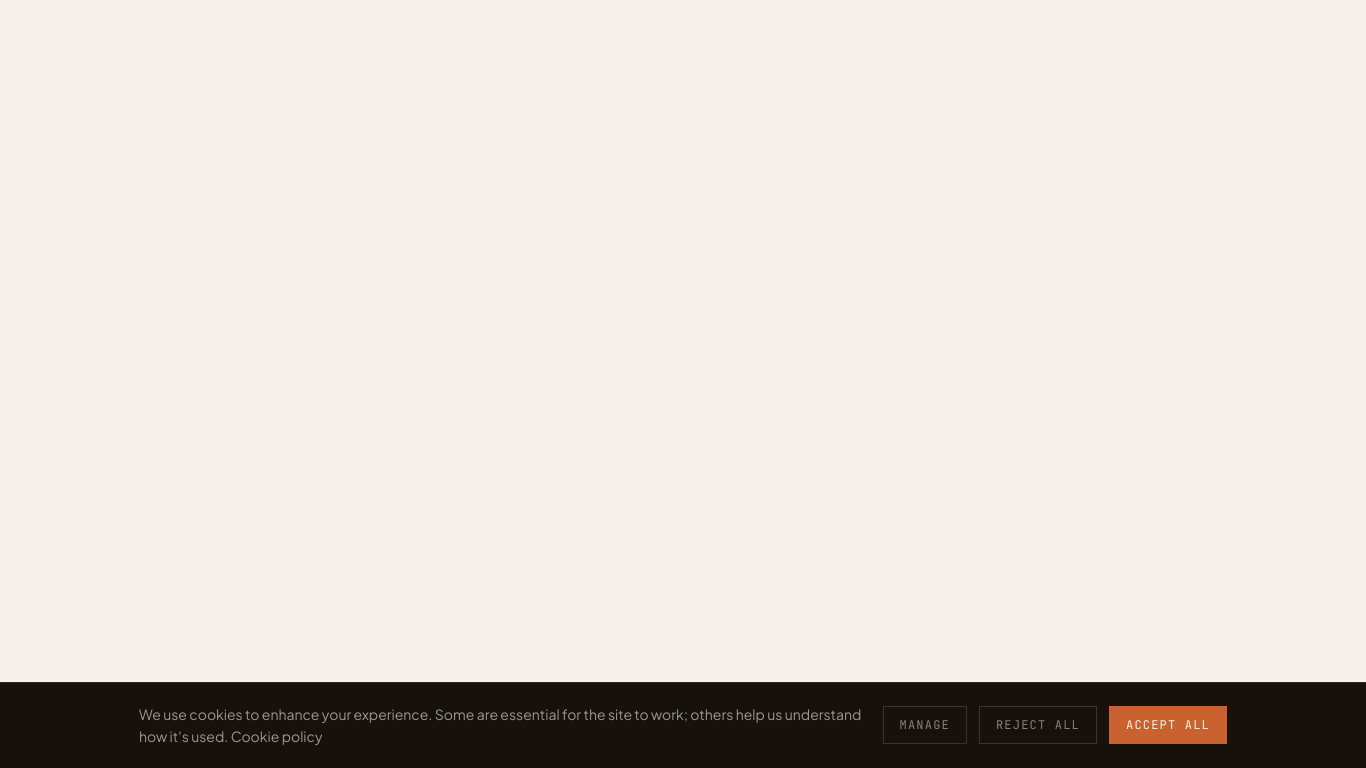
Test: CookieConsent › closes the preferences panel with the ✕ button
Click the button "Manage": (925, 725) [883,706,967,744]
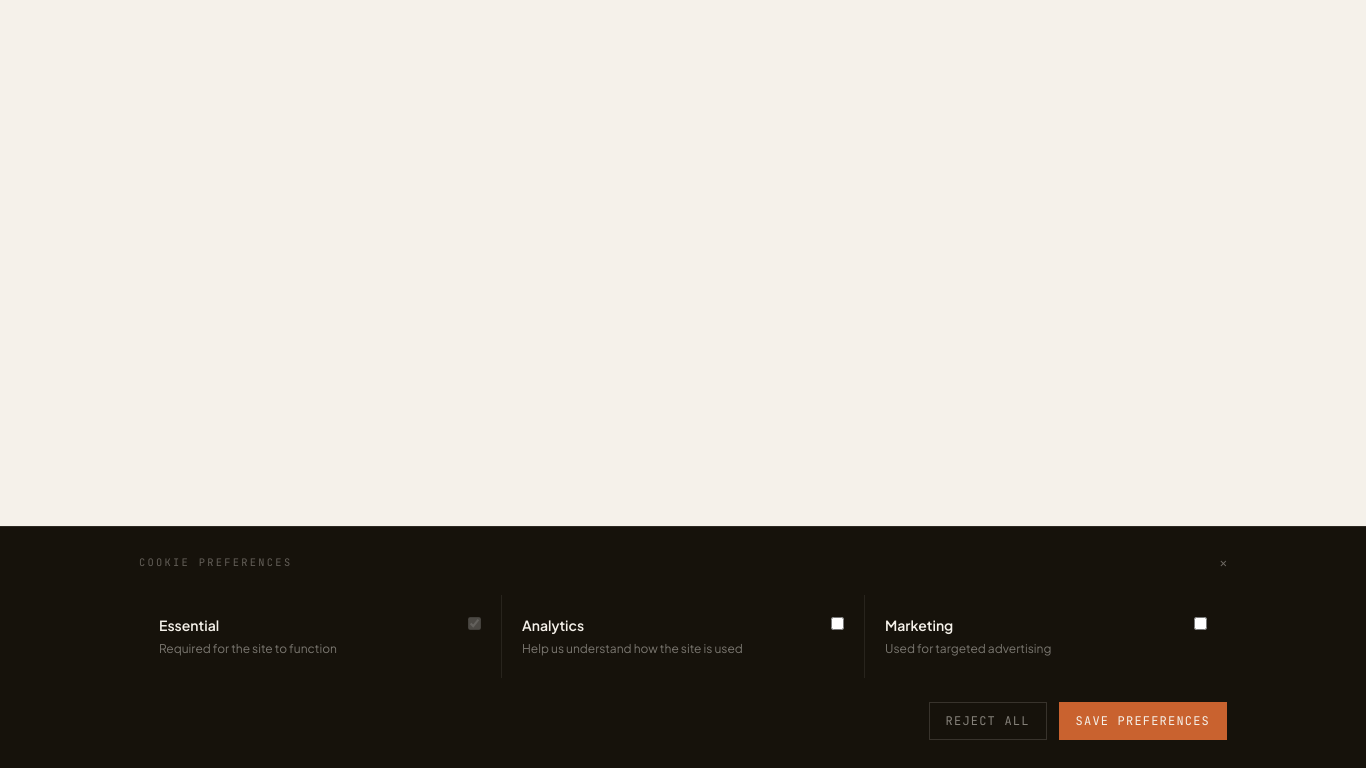
Now the text "Cookie Preferences" is shown, box [139,555,292,570]
Click the button "✕": (1223, 562) [1220,554,1227,570]
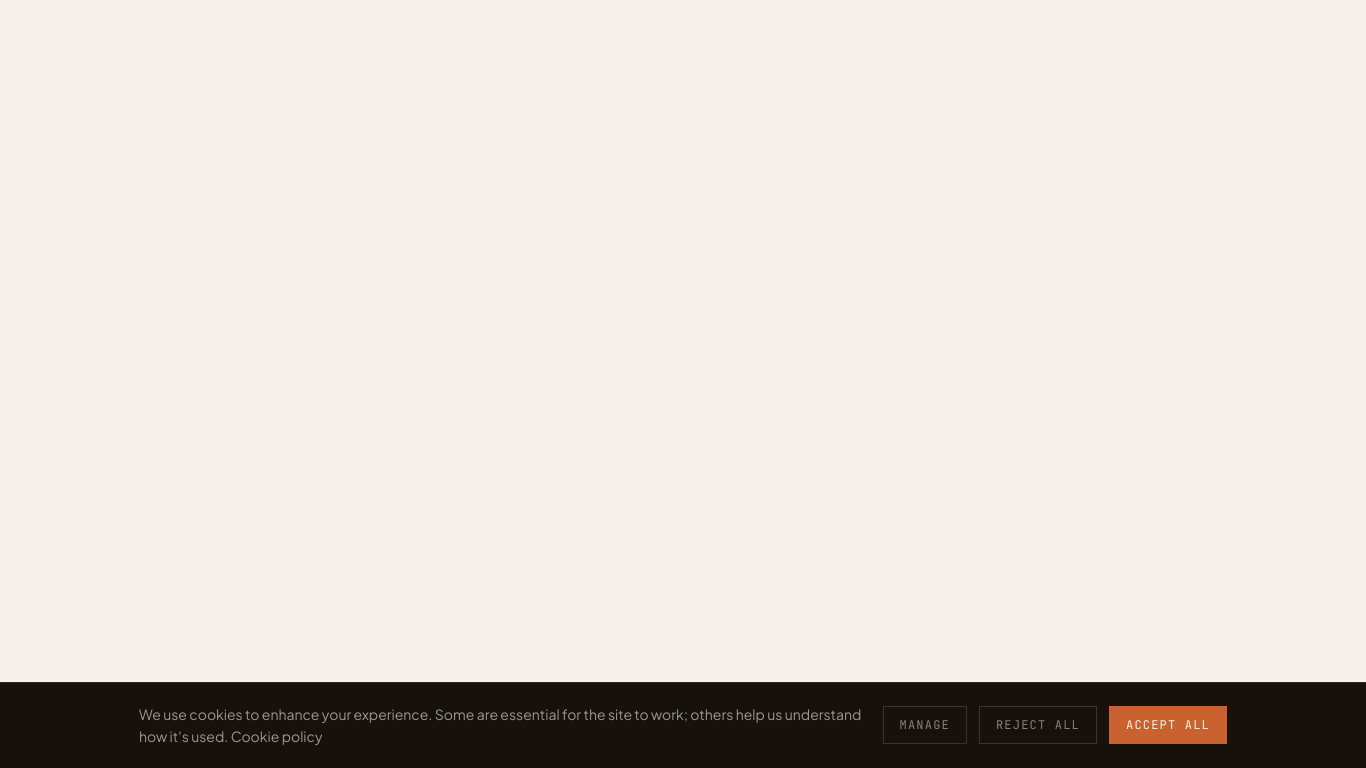
Now the text "Cookie Preferences" is gone
